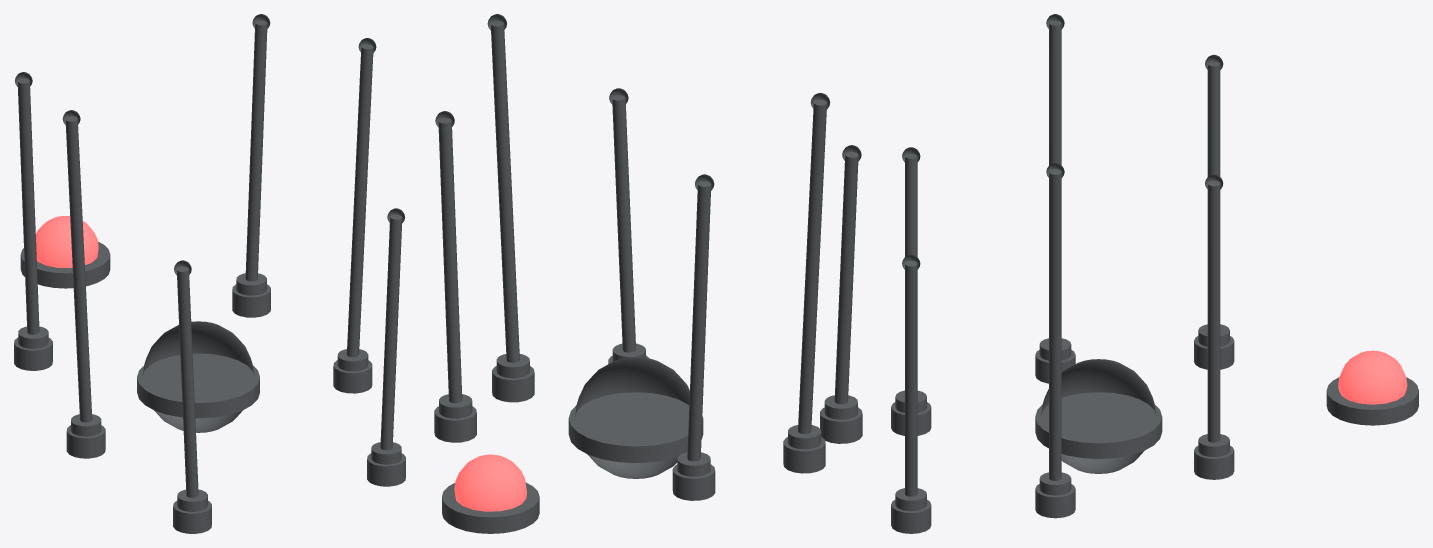
The model's file is AVIONICS_MASTER.glb.
3 renders of one model, left to right at view 1: azimuth 30°, elevation 25°; view 2: azimuth 150°, elevation 25°; view 3: azimuth 270°, elevation 25°, orthographic. The views are drawn at different scales.
Parts seen in each view (by area): view 1: ANTENNA_SYSTEM, LIGHTS_BEACON, BEACON_BASE; view 2: ANTENNA_SYSTEM, LIGHTS_BEACON, BEACON_BASE; view 3: ANTENNA_SYSTEM, LIGHTS_BEACON, BEACON_BASE.
Boxes of the visible parts, bbox=[...] form: ANTENNA_SYSTEM: bbox=[14, 14, 405, 533]; LIGHTS_BEACON: bbox=[36, 216, 98, 268]; BEACON_BASE: bbox=[20, 241, 110, 288]; ANTENNA_SYSTEM: bbox=[434, 14, 862, 500]; LIGHTS_BEACON: bbox=[454, 454, 526, 511]; BEACON_BASE: bbox=[442, 482, 539, 533]; ANTENNA_SYSTEM: bbox=[891, 14, 1234, 533]; LIGHTS_BEACON: bbox=[1338, 350, 1407, 404]; BEACON_BASE: bbox=[1326, 377, 1418, 425].
Bounding box in the file's own units: 0.1284 × 0.1482 × 0.183.
